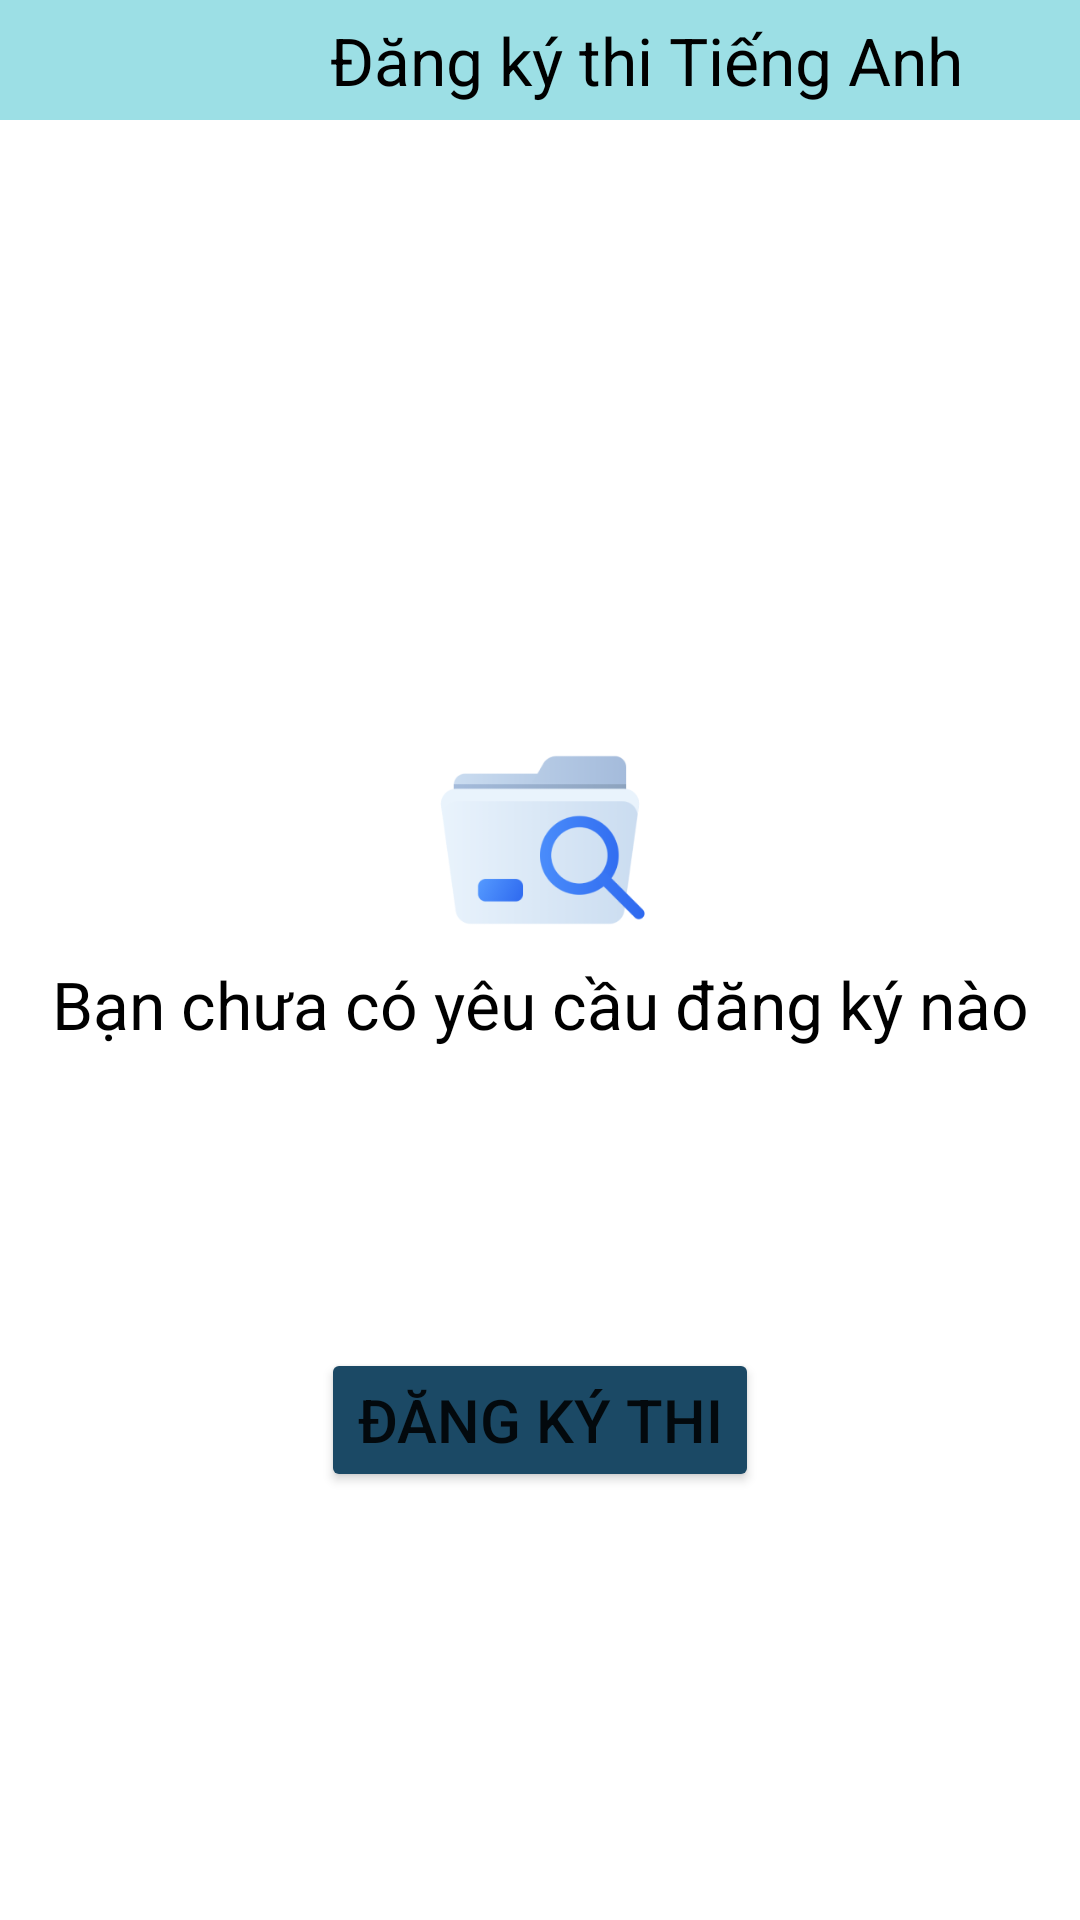

Locate icon controls on the screen. Image size 1080*1920, boxes as (x1, y1, x2, y2).
notfound: (454, 756, 645, 924)
